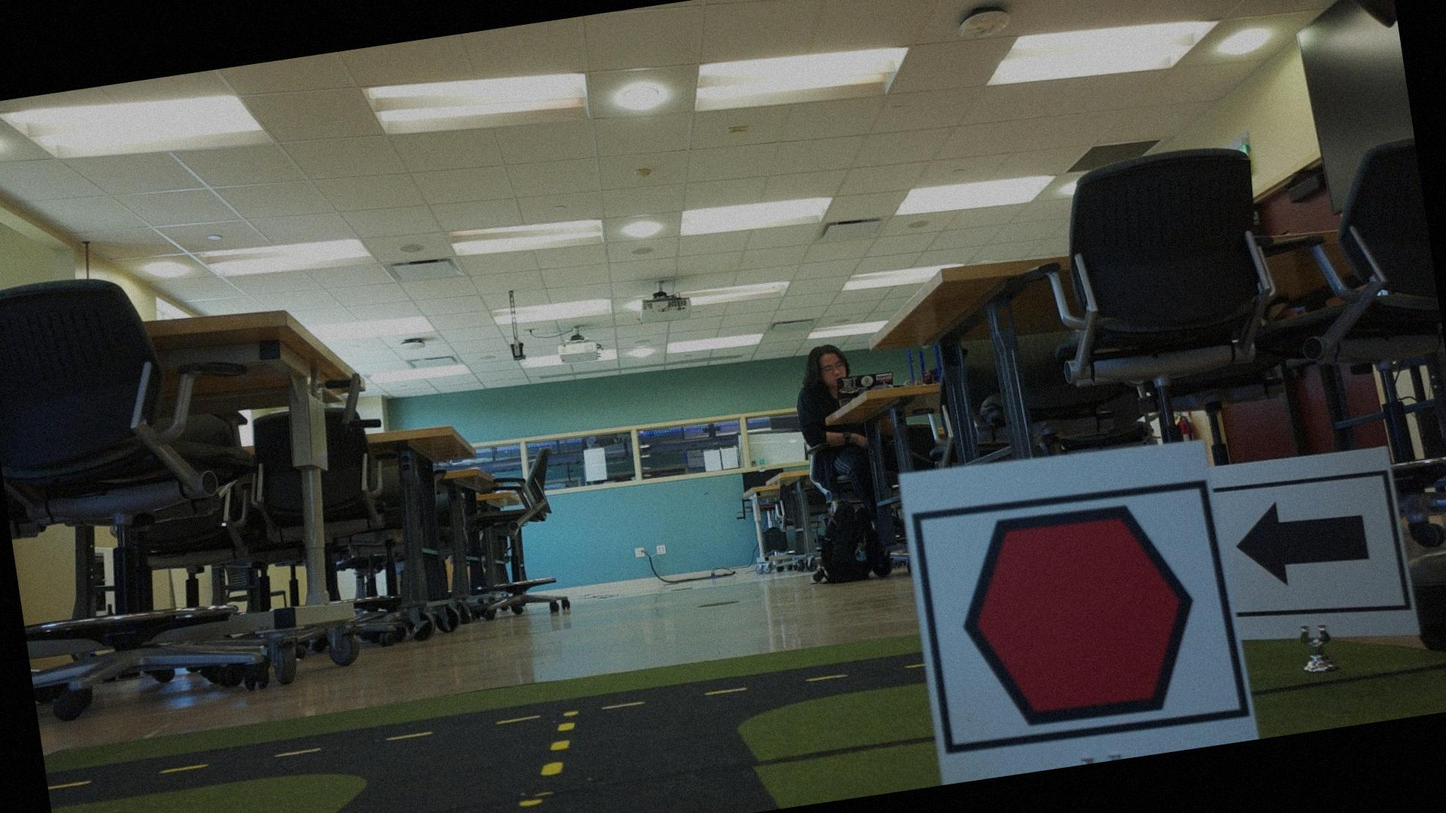stop: (933, 483, 1220, 749)
turnright: (1216, 478, 1402, 616)
yellowline: (481, 720, 586, 812)
